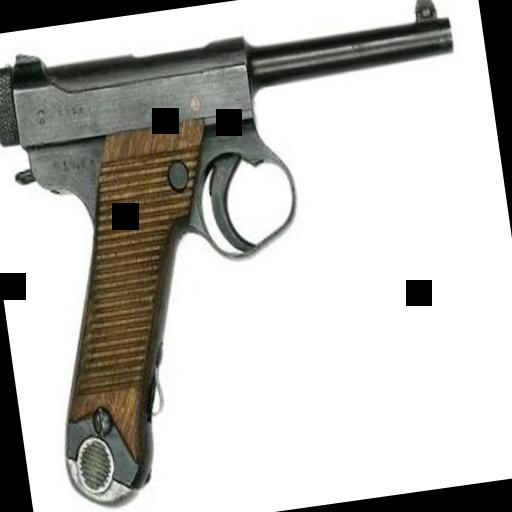Handgun: (0, 0, 508, 509)
